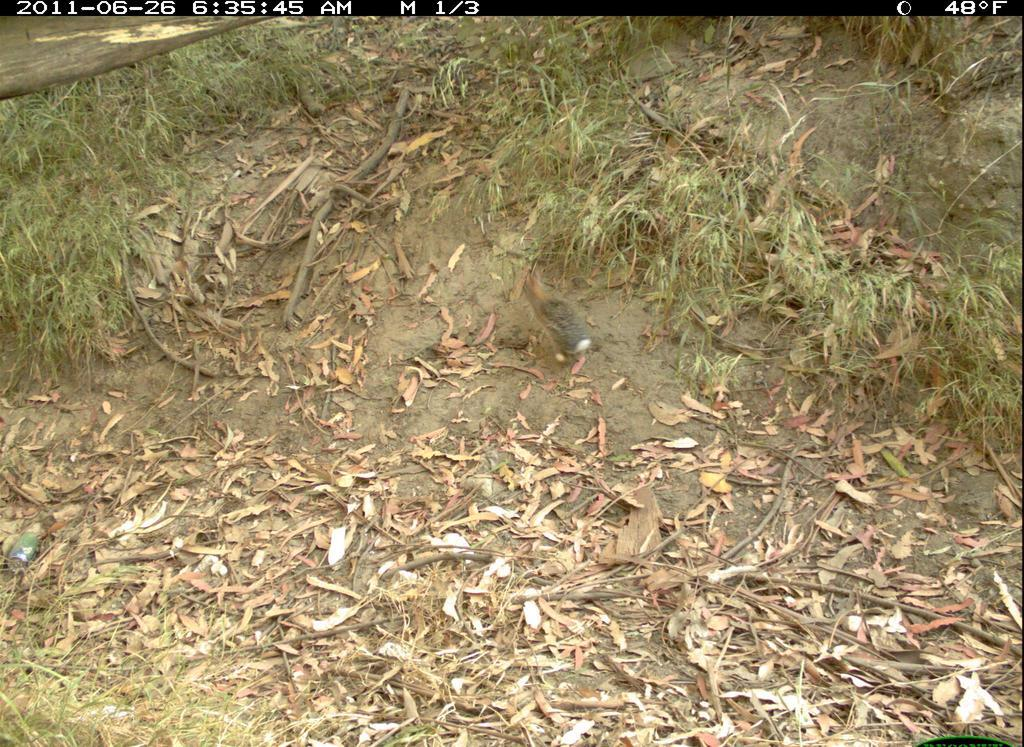rabbit: (524, 271, 605, 374)
